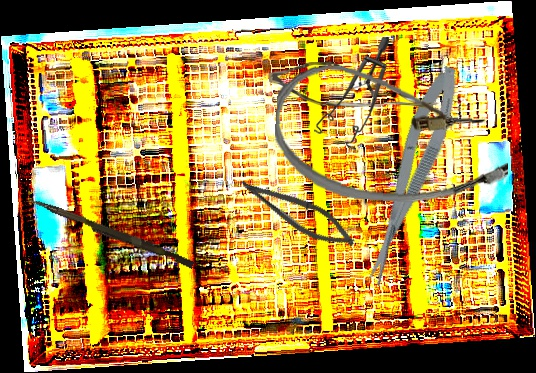Cannula: (270, 61, 515, 210)
Micro Scissor: (350, 60, 471, 290), (232, 171, 362, 256), (268, 59, 442, 116)
Pusher: (27, 197, 196, 269)
Speculum: (314, 37, 389, 149)
